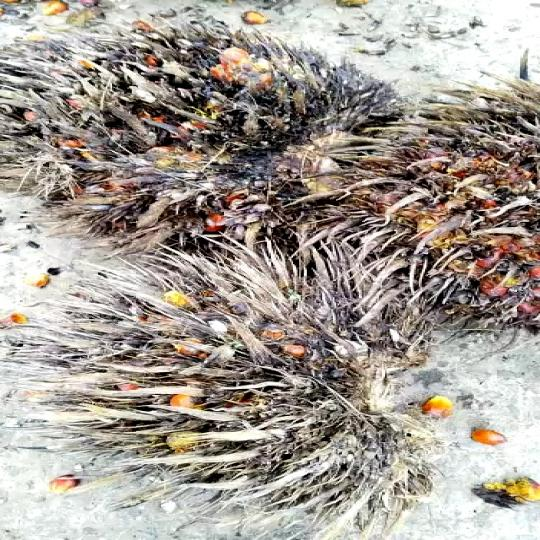terlalu masak: (10, 246, 450, 534), (0, 26, 426, 246)
